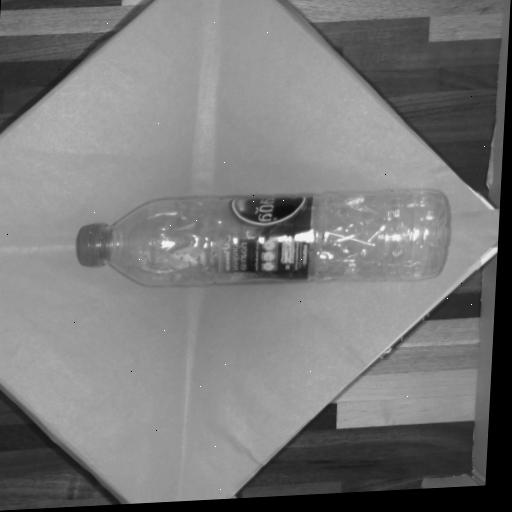bottle: (59, 169, 464, 322)
